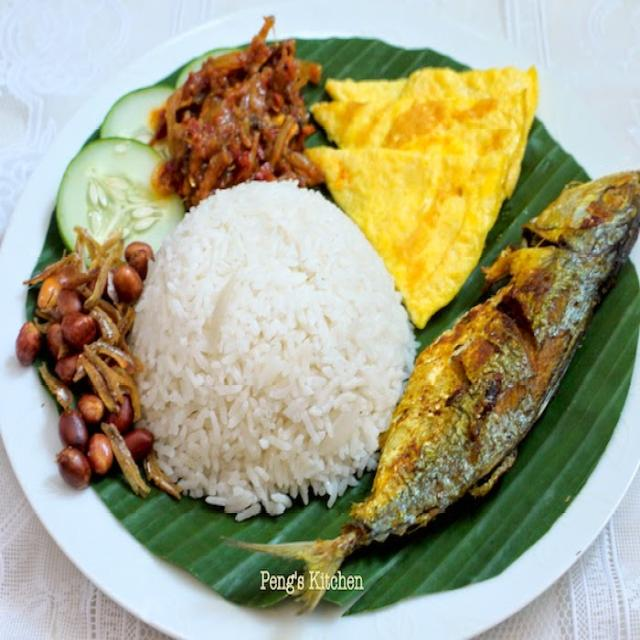Egg: (307, 68, 538, 327)
Fish: (242, 171, 639, 578)
Green veg: (57, 49, 229, 250)
Non green veg: (151, 18, 321, 207)
Rice: (131, 180, 416, 518)
